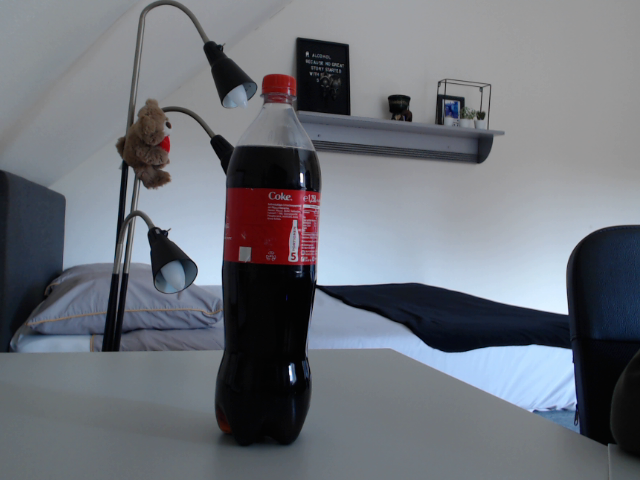bottle: (212, 74, 323, 446)
